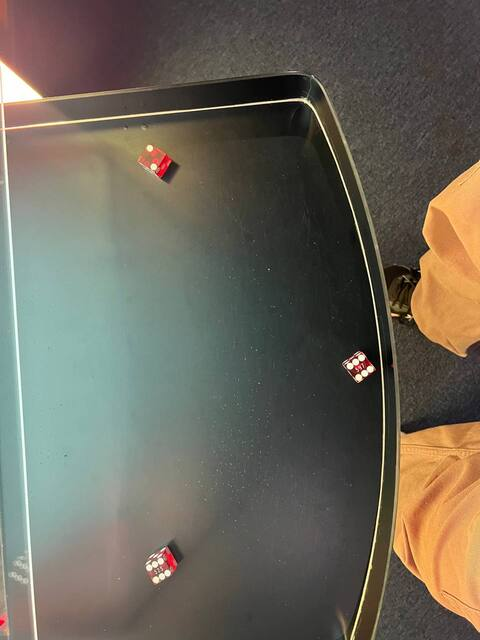six: (342, 349, 379, 386), (141, 556, 174, 587)
two: (133, 141, 168, 174)
